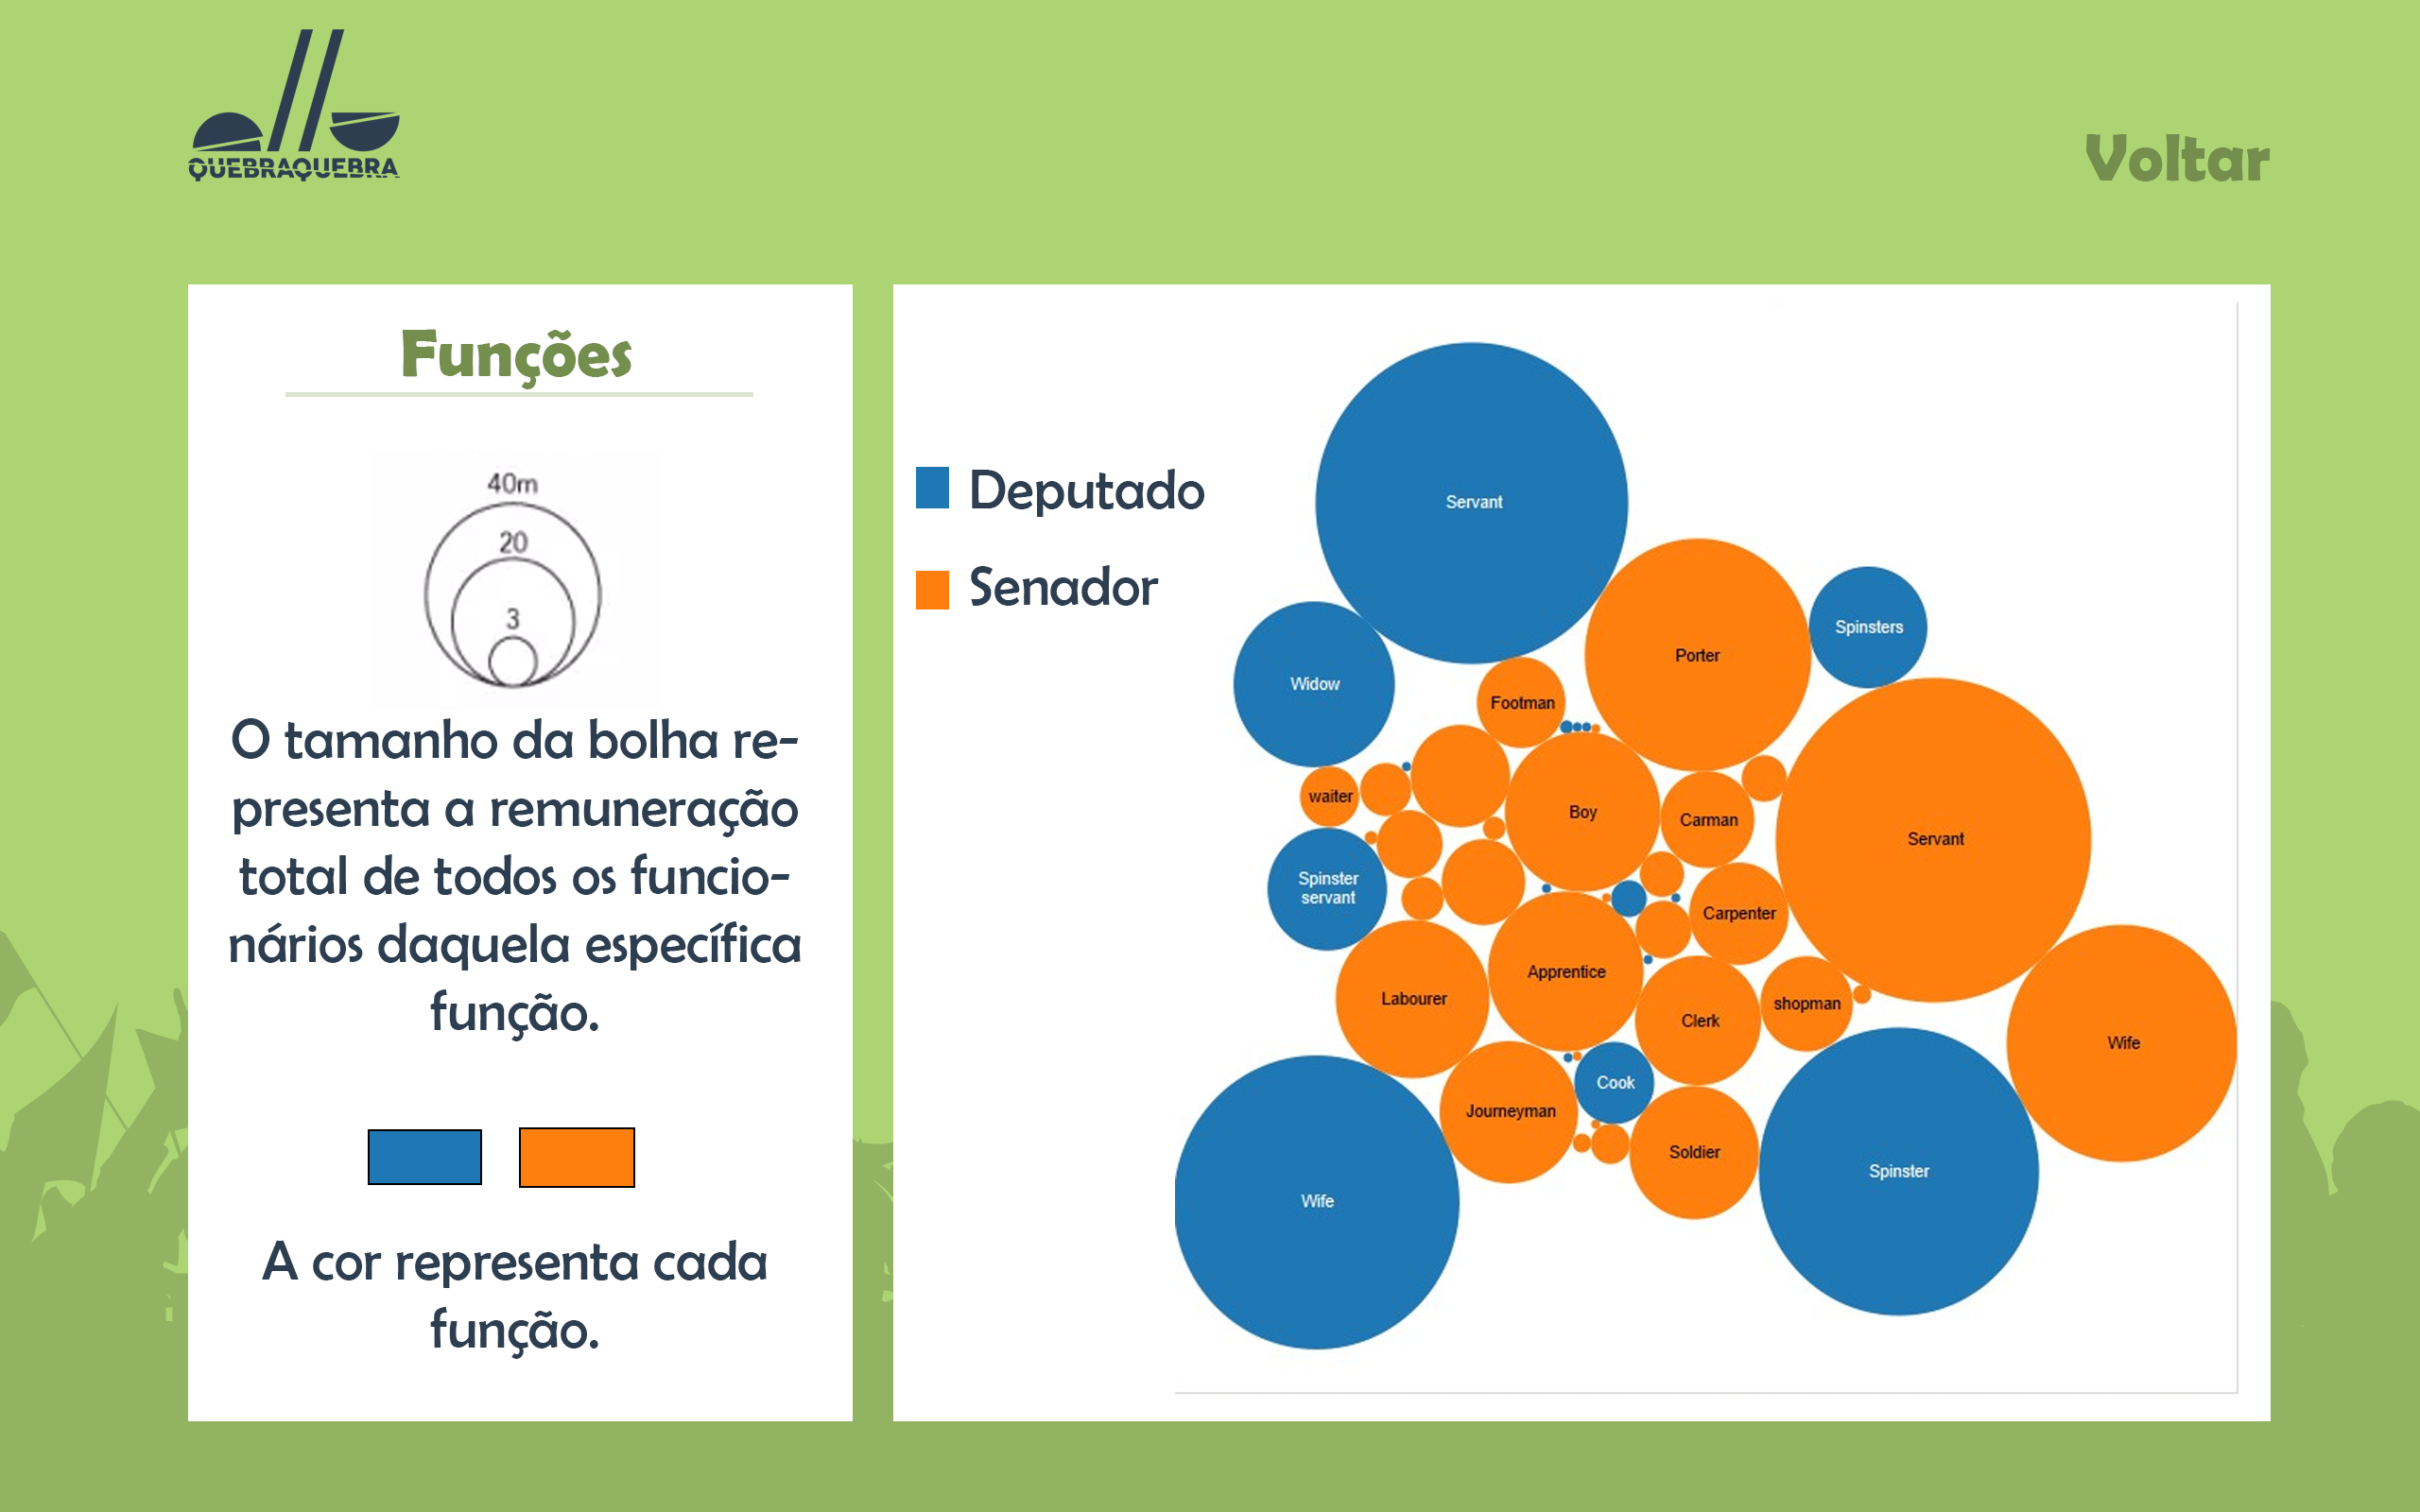

This screenshot's page, from the dashboard's own definition file:
{"tool":"tableau","page":{"name":"Painel 2","canvas":[650,860],"ordinal":1},"visuals":[{"type":"worksheet","title":"Planilha 6","mark":"Automatic","rows":["Number of Records"],"cols":["Mes (cópia)"],"box":[0,0,650,860]}]}

Visuals, with their boxes on the page's 650x860 design canvas (x1, y1, x2, y2). These are canvas units, not pixel positions in the 2420x1512 screenshot, which may show the page scaled, cropped or inside an application window:
"Planilha 6" worksheet: [x1=0, y1=0, x2=650, y2=860]
